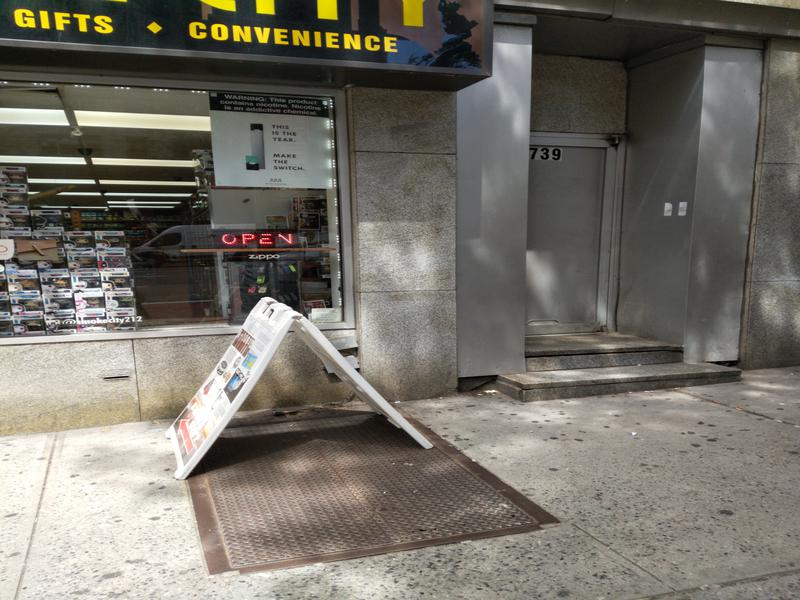door: (525, 129, 627, 342)
